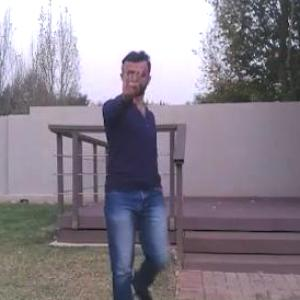takeoff-hand: (118, 56, 151, 98)
